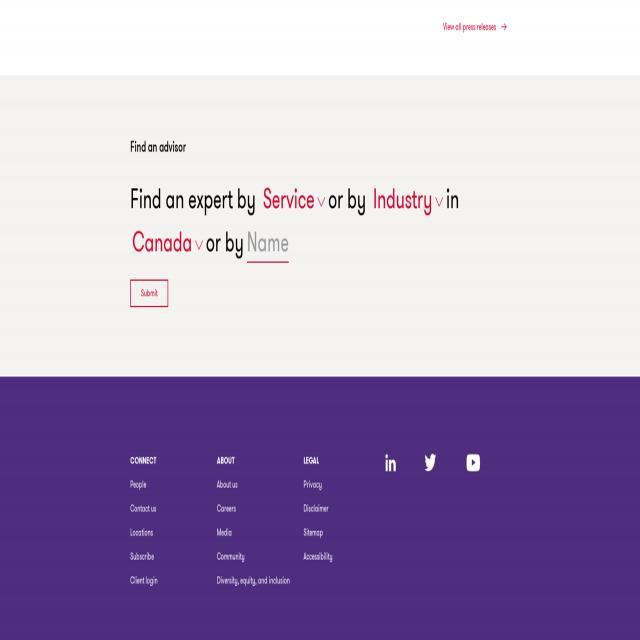button: (130, 280, 168, 308), (466, 454, 480, 471), (424, 454, 436, 472), (385, 454, 396, 471)
field: (247, 223, 289, 263)
